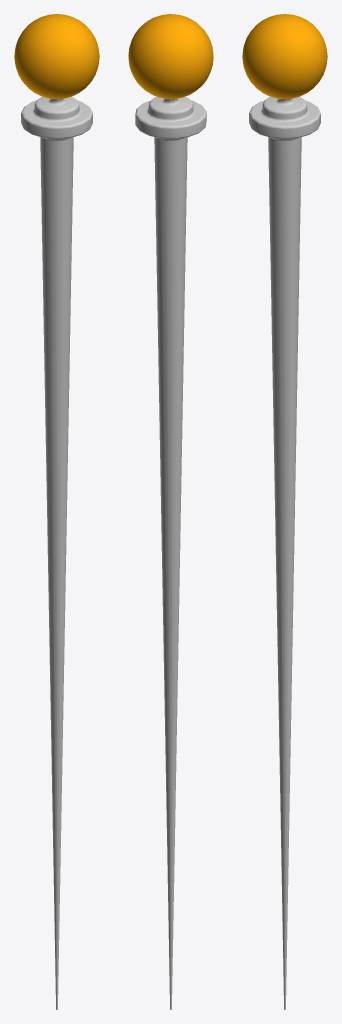
Rendered from orange.glb.
3 renders of one model, left to right at view 1: azimuth 90°, elevation 25°; view 2: azimuth 210°, elevation 25°; view 3: azimuth 270°, elevation 25°, orthographic.
Visible parts, largest first — view 1: Orange.001; view 2: Orange.001; view 3: Orange.001.
Part boxes in pixels (bbox=[...]): Orange.001: bbox=[14, 14, 99, 1009]; Orange.001: bbox=[128, 14, 213, 1009]; Orange.001: bbox=[242, 14, 327, 1009].
Bounding box in the file's own units: 0.593 × 7.6 × 0.593.
